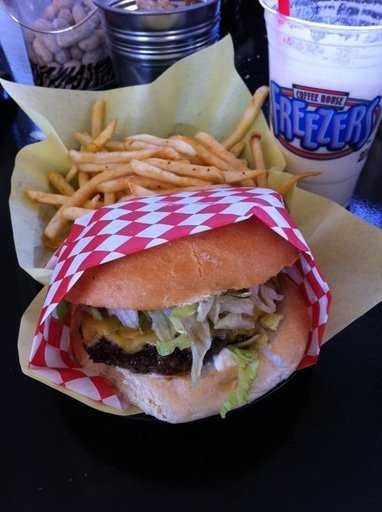hamburger: (60, 200, 327, 421)
